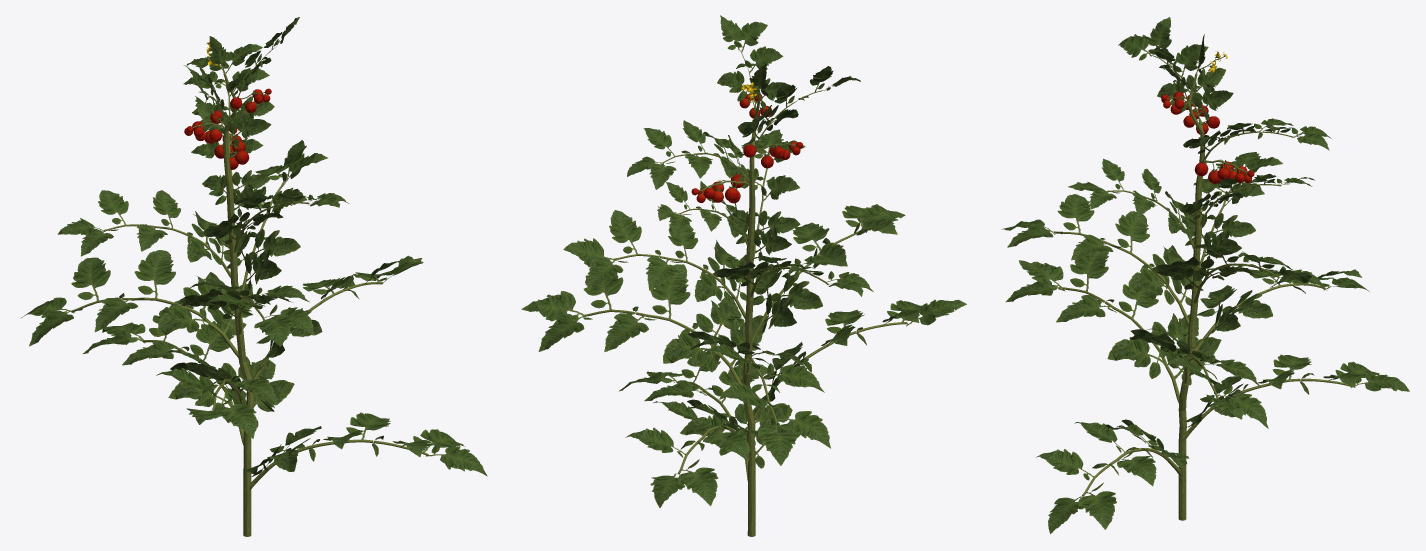
File: seven.obj
The picture shows the model from 3 angles, left to right: view 1: azimuth 30°, elevation 25°; view 2: azimuth 150°, elevation 25°; view 3: azimuth 270°, elevation 25°; orthographic projection. The views are drawn at different scales.
Visible parts, largest first — view 1: VG18_7; view 2: VG18_7; view 3: VG18_7.
Part boxes in pixels (x1,y1,x2,y2): VG18_7: (21,17,487,536); VG18_7: (521,15,966,536); VG18_7: (1001,17,1409,533).
Size of the model in its own units: 0.9248 by 1.26 by 0.9584.
Materials: 8 (8 with a texture image).
